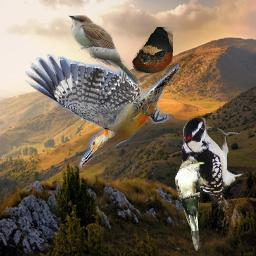Cuckoo: (68, 15, 141, 86), (175, 158, 205, 251)
Swallow: (132, 27, 173, 74)
Woodpecker: (25, 54, 179, 169), (182, 113, 244, 208)
